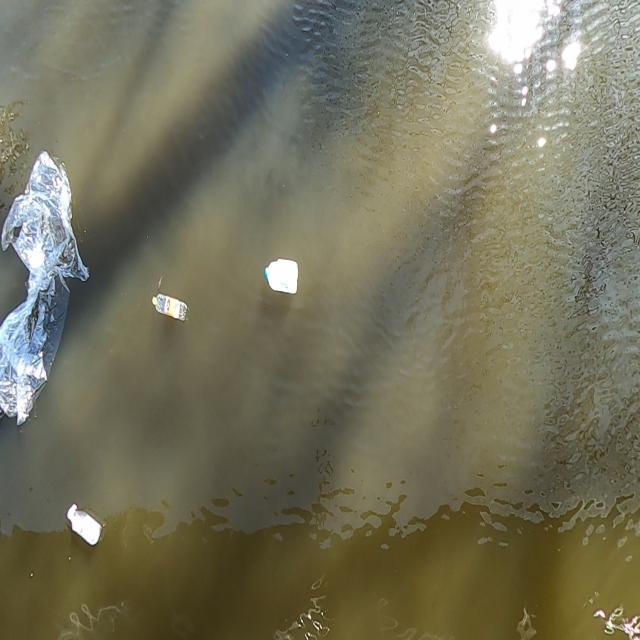Autre plastique: (261, 258, 302, 303)
Bouteille plastique: (65, 498, 104, 555), (146, 295, 192, 331)
